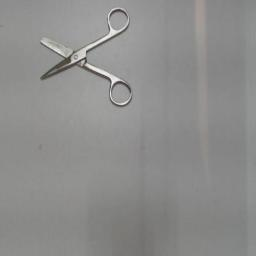Dressing Scissors: (32, 2, 136, 110)
